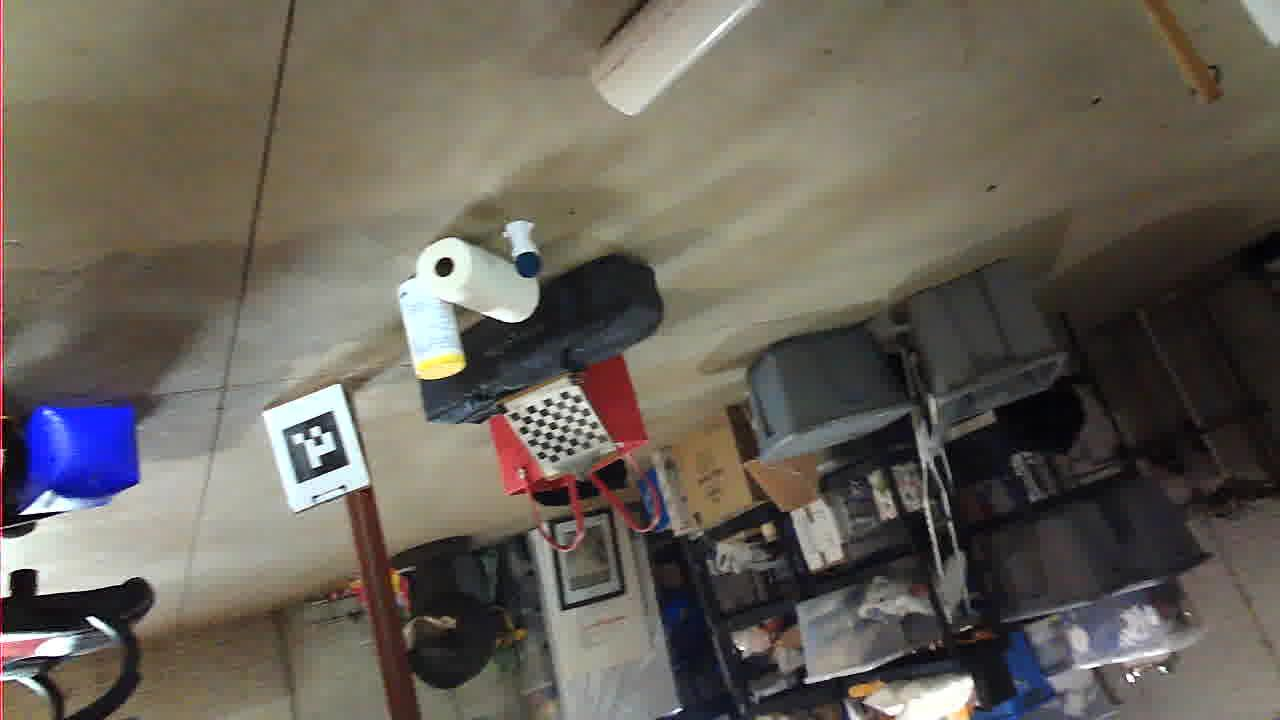coral: (515, 604, 688, 720)
